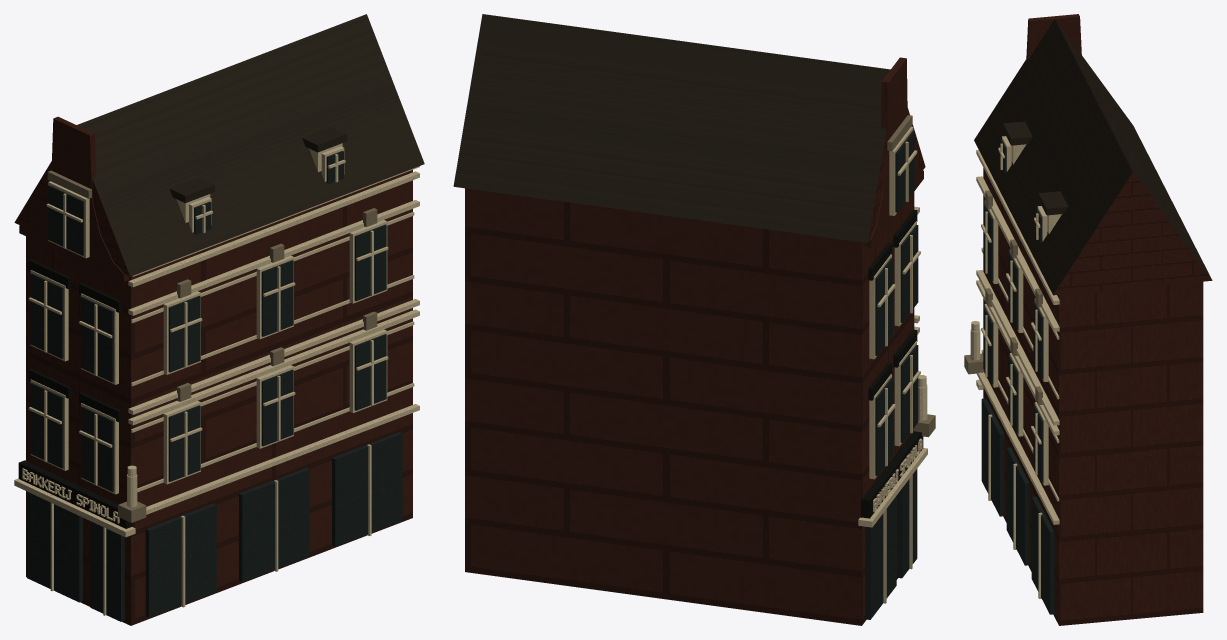
3 renders of one model, left to right at view 1: azimuth 30°, elevation 25°; view 2: azimuth 150°, elevation 25°; view 3: azimuth 270°, elevation 25°, orthographic. The views are drawn at different scales.
Visible parts, largest first — view 1: spinolahuis-1, spinolahuis-3, spinolahuis-2, spinolahuis-0, spinolahuis-4, spinolahuis-5; view 2: spinolahuis-1, spinolahuis-2, spinolahuis-3, spinolahuis-0, spinolahuis-4, spinolahuis-5; view 3: spinolahuis-1, spinolahuis-2, spinolahuis-0, spinolahuis-3, spinolahuis-5.
Part boxes in pixels (x1=…): spinolahuis-1: x1=14, y1=116, x2=412, y2=625; spinolahuis-3: x1=27, y1=151, x2=402, y2=621; spinolahuis-2: x1=77, y1=14, x2=424, y2=276; spinolahuis-0: x1=14, y1=143, x2=419, y2=615; spinolahuis-4: x1=18, y1=259, x2=132, y2=528; spinolahuis-5: x1=47, y1=170, x2=377, y2=522; spinolahuis-1: x1=465, y1=57, x2=925, y2=625; spinolahuis-2: x1=453, y1=14, x2=890, y2=242; spinolahuis-3: x1=865, y1=130, x2=918, y2=619; spinolahuis-0: x1=858, y1=126, x2=927, y2=603; spinolahuis-4: x1=861, y1=209, x2=923, y2=518; spinolahuis-5: x1=887, y1=115, x2=935, y2=437; spinolahuis-1: x1=983, y1=14, x2=1212, y2=625; spinolahuis-2: x1=974, y1=19, x2=1211, y2=294; spinolahuis-0: x1=970, y1=136, x2=1061, y2=598; spinolahuis-3: x1=981, y1=139, x2=1054, y2=614; spinolahuis-5: x1=964, y1=190, x2=1042, y2=405.
Bounding box in the file's own units: 12.91 × 15.9 × 7.94.
6 materials, 6 textured.
